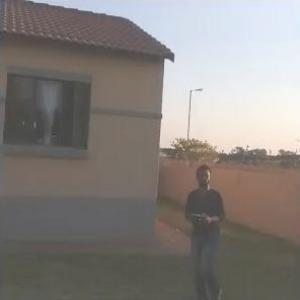follow: (178, 159, 230, 299)
